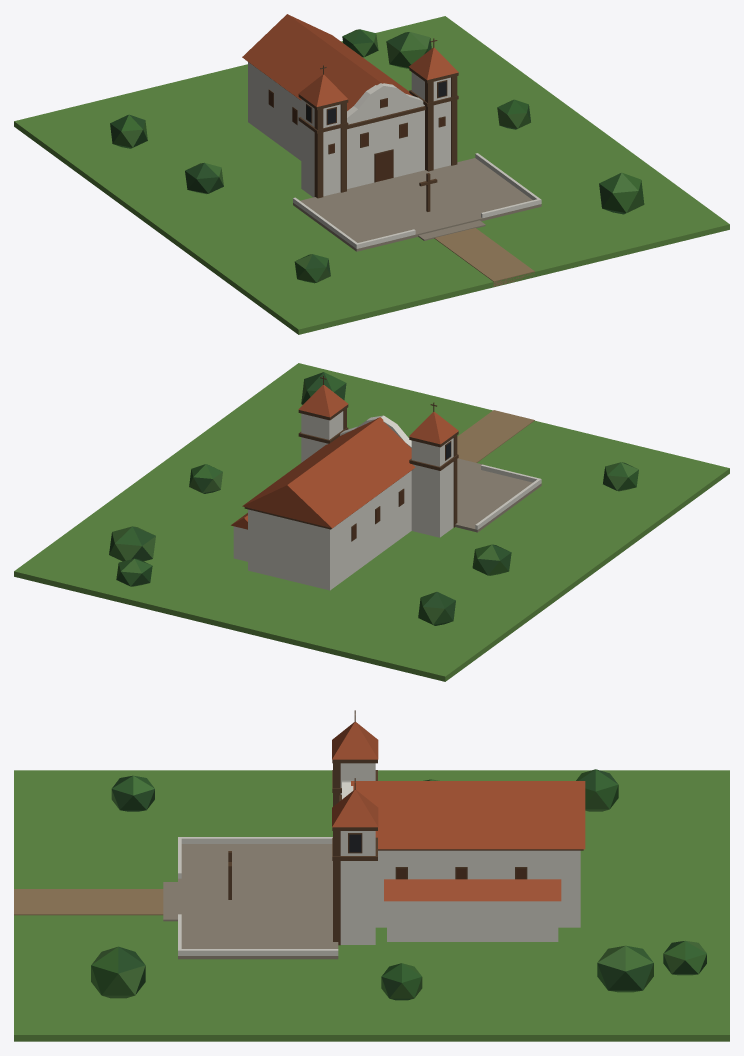
Rendered from igreja_pirenopolis.glb.
3 renders of one model, top to bottom at view 1: azimuth 30°, elevation 25°; view 2: azimuth 150°, elevation 25°; view 3: azimuth 270°, elevation 25°, orthographic. The views are drawn at different scales.
Visible parts, largest first — view 1: igreja_pirenopolis; view 2: igreja_pirenopolis; view 3: igreja_pirenopolis.
Boxes of the visible parts, box(x1,y1,x2,y2) form: igreja_pirenopolis: box(14, 14, 729, 334); igreja_pirenopolis: box(14, 363, 729, 681); igreja_pirenopolis: box(14, 710, 729, 1041).
Bounding box in the file's own units: 84 × 24.4 × 96.
